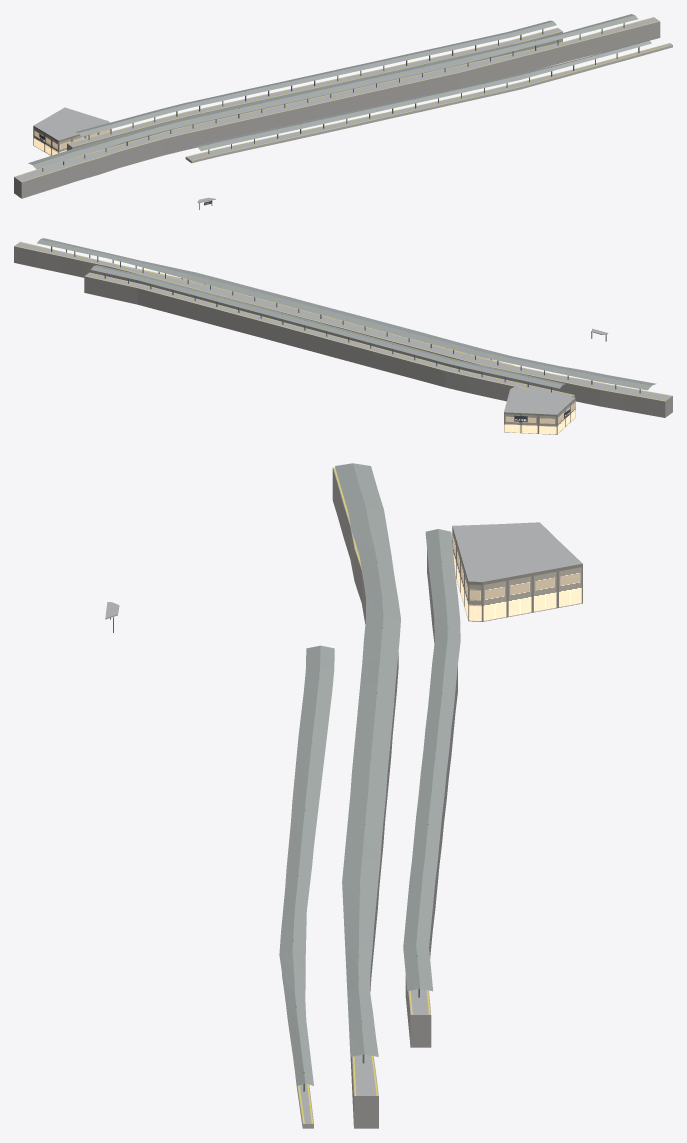
Rendered from yoyogi_station.glb.
3 renders of one model, top to bottom at view 1: azimuth 30°, elevation 25°; view 2: azimuth 150°, elevation 25°; view 3: azimuth 270°, elevation 25°, orthographic. The views are drawn at different scales.
Parts seen in each view (by area): view 1: YY_Station; view 2: YY_Station; view 3: YY_Station.
Part boxes in pixels (x1,y1,x2,y2): YY_Station: [14, 14, 672, 209]; YY_Station: [14, 238, 672, 434]; YY_Station: [105, 463, 582, 1128].
Bounding box in the file's own units: 287 × 11.2 × 92.45.
9 materials, 1 textured.
